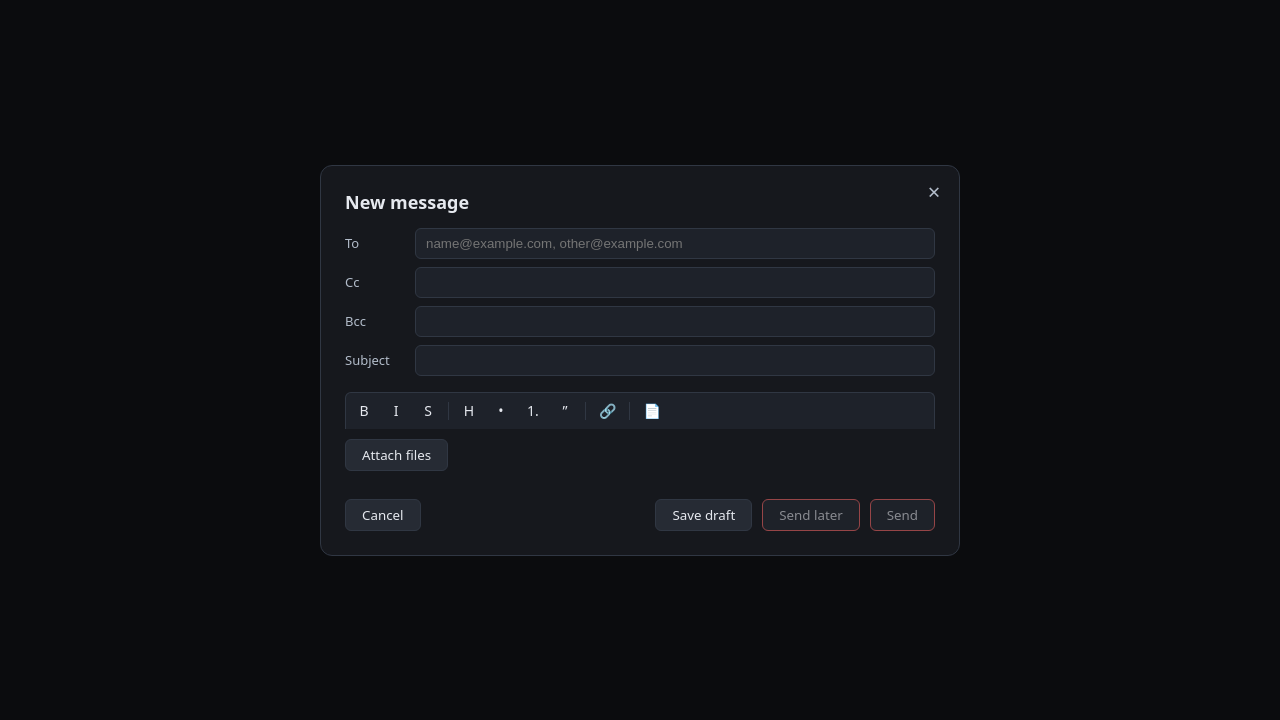
Test: ComposeModal: discard guard over files and images › asks before Cancel discards a compose holding only picked files
Click the button "Attach files".
click(397, 454)  # box [345,438,448,470]
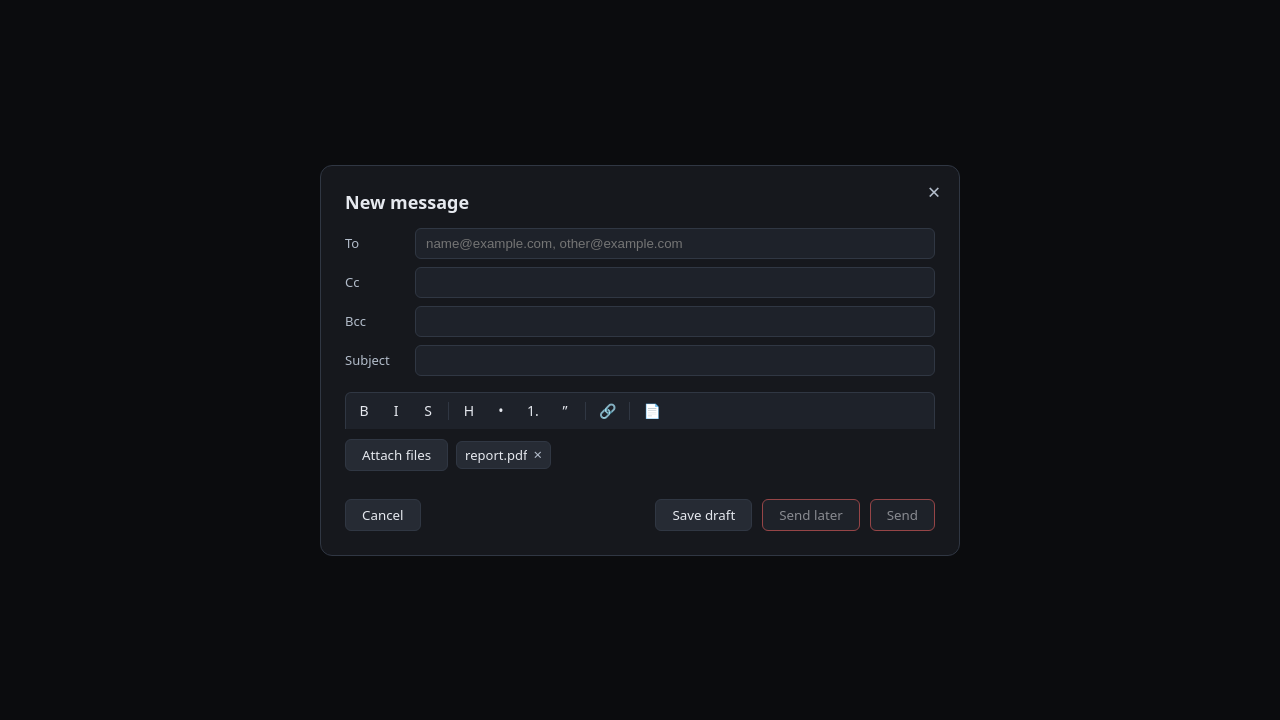
Click the button "Cancel".
click(383, 514)  # box [345,498,420,530]
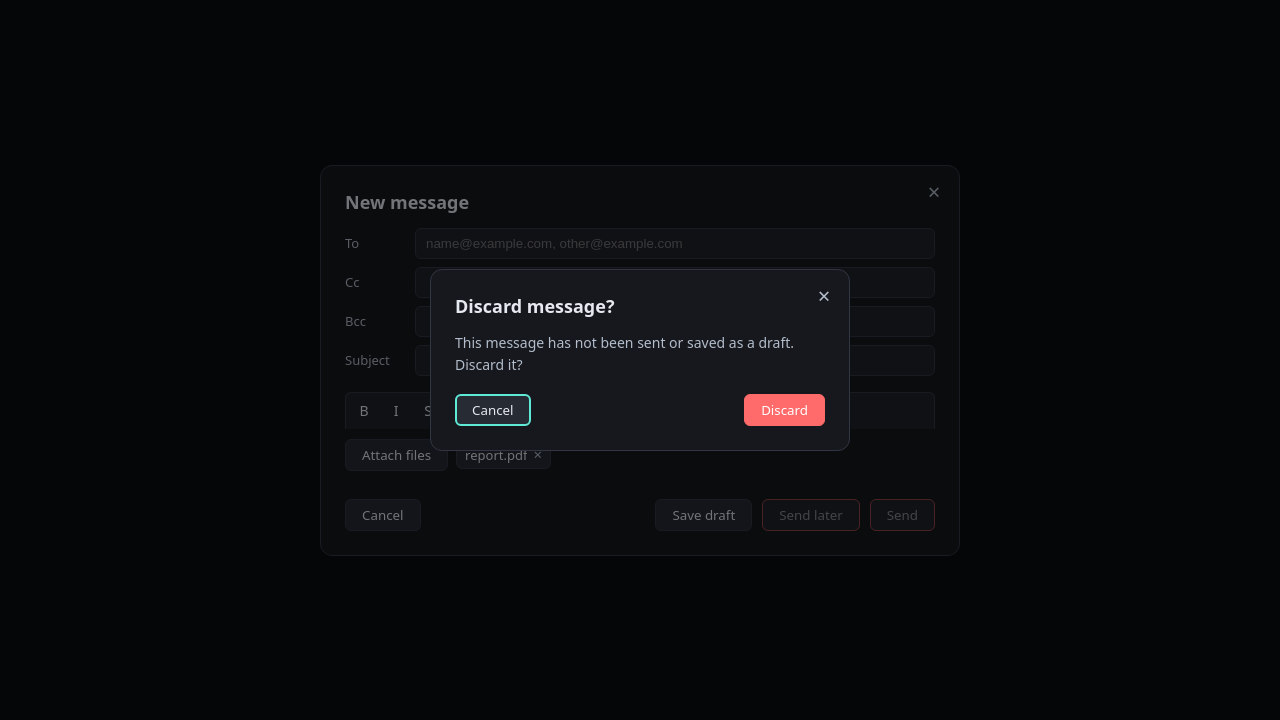
Check: the dialog "Discard message?" is shown, box [430,269,850,451]
